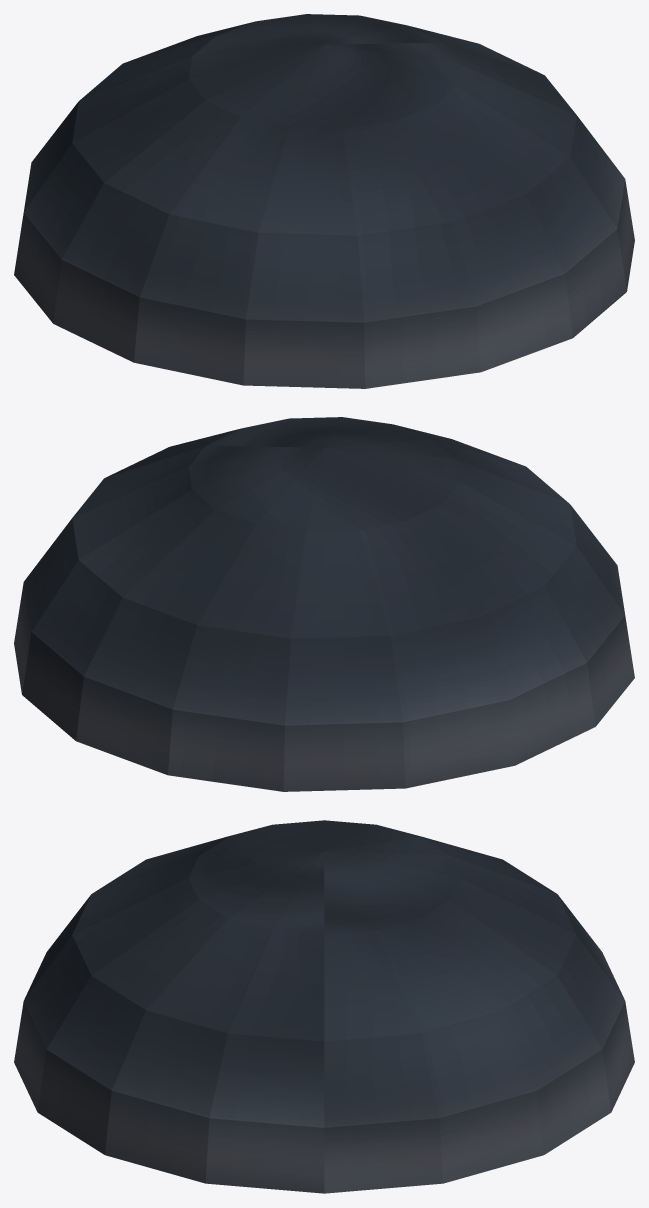
Rendered from etip_cenario.obj.
The picture shows the model from 3 angles, top to bottom: view 1: azimuth 30°, elevation 25°; view 2: azimuth 150°, elevation 25°; view 3: azimuth 270°, elevation 25°; orthographic projection.
Parts seen in each view (by area): view 1: PS2_Domo_Ceu_Nublado; view 2: PS2_Domo_Ceu_Nublado; view 3: PS2_Domo_Ceu_Nublado.
Boxes of the visible parts, <box> form: PS2_Domo_Ceu_Nublado: <box>14,14,634,388</box>; PS2_Domo_Ceu_Nublado: <box>14,417,634,791</box>; PS2_Domo_Ceu_Nublado: <box>14,820,634,1193</box>.
Size of the model in its own units: 64 by 24 by 64.
13 materials, 13 textured.
